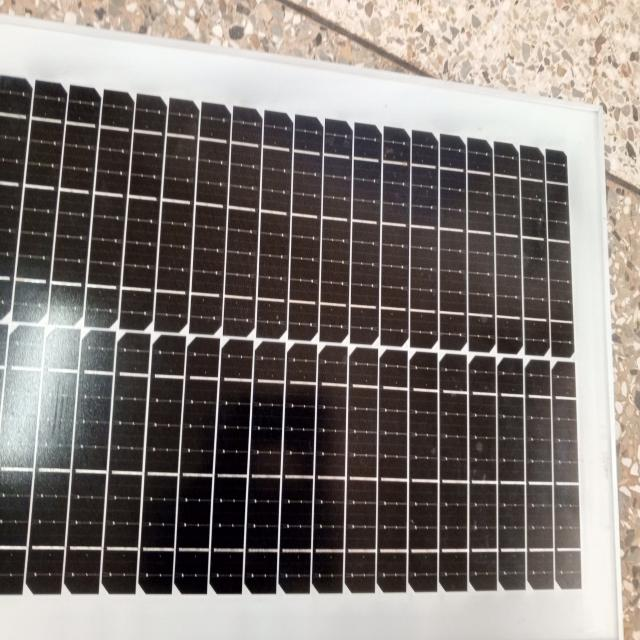Clean: (36, 124, 594, 606)
